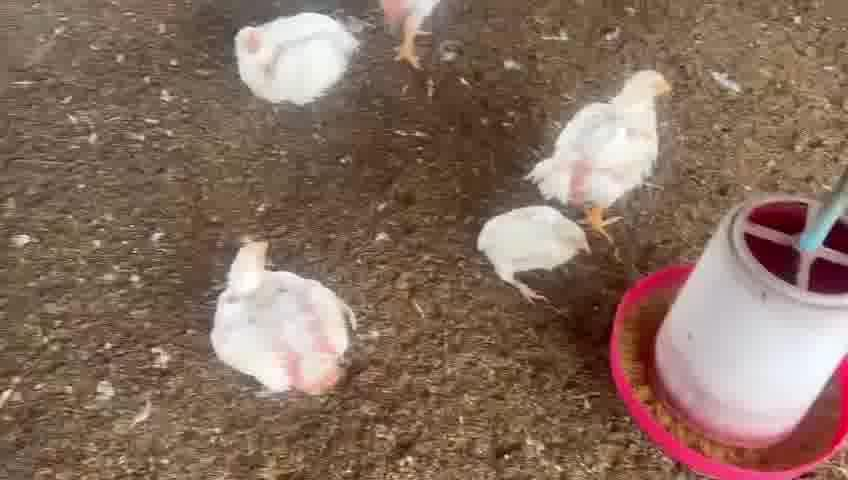AbNormal: (212, 243, 353, 399), (476, 203, 589, 303), (231, 15, 357, 103)
Normal: (541, 70, 671, 238), (375, 3, 436, 74)
